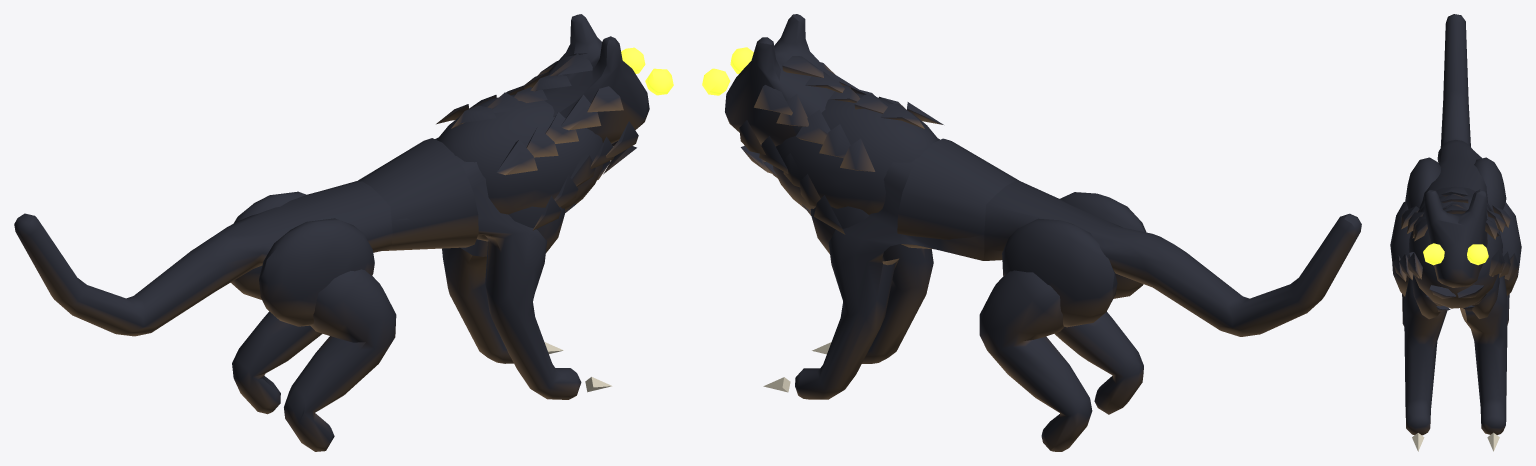
The model's file is wampus-cat.glb.
3 renders of one model, left to right at view 1: azimuth 30°, elevation 25°; view 2: azimuth 150°, elevation 25°; view 3: azimuth 270°, elevation 25°, orthographic. The views are drawn at different scales.
Parts seen in each view (by area): view 1: wampus-cat.001; view 2: wampus-cat.001; view 3: wampus-cat.001.
Part boxes in pixels (x1,y1,x2,y2): wampus-cat.001: [14, 14, 673, 451]; wampus-cat.001: [702, 14, 1361, 451]; wampus-cat.001: [1390, 14, 1521, 451].
Size of the model in its own units: 1.83 by 0.9307 by 0.4181.
